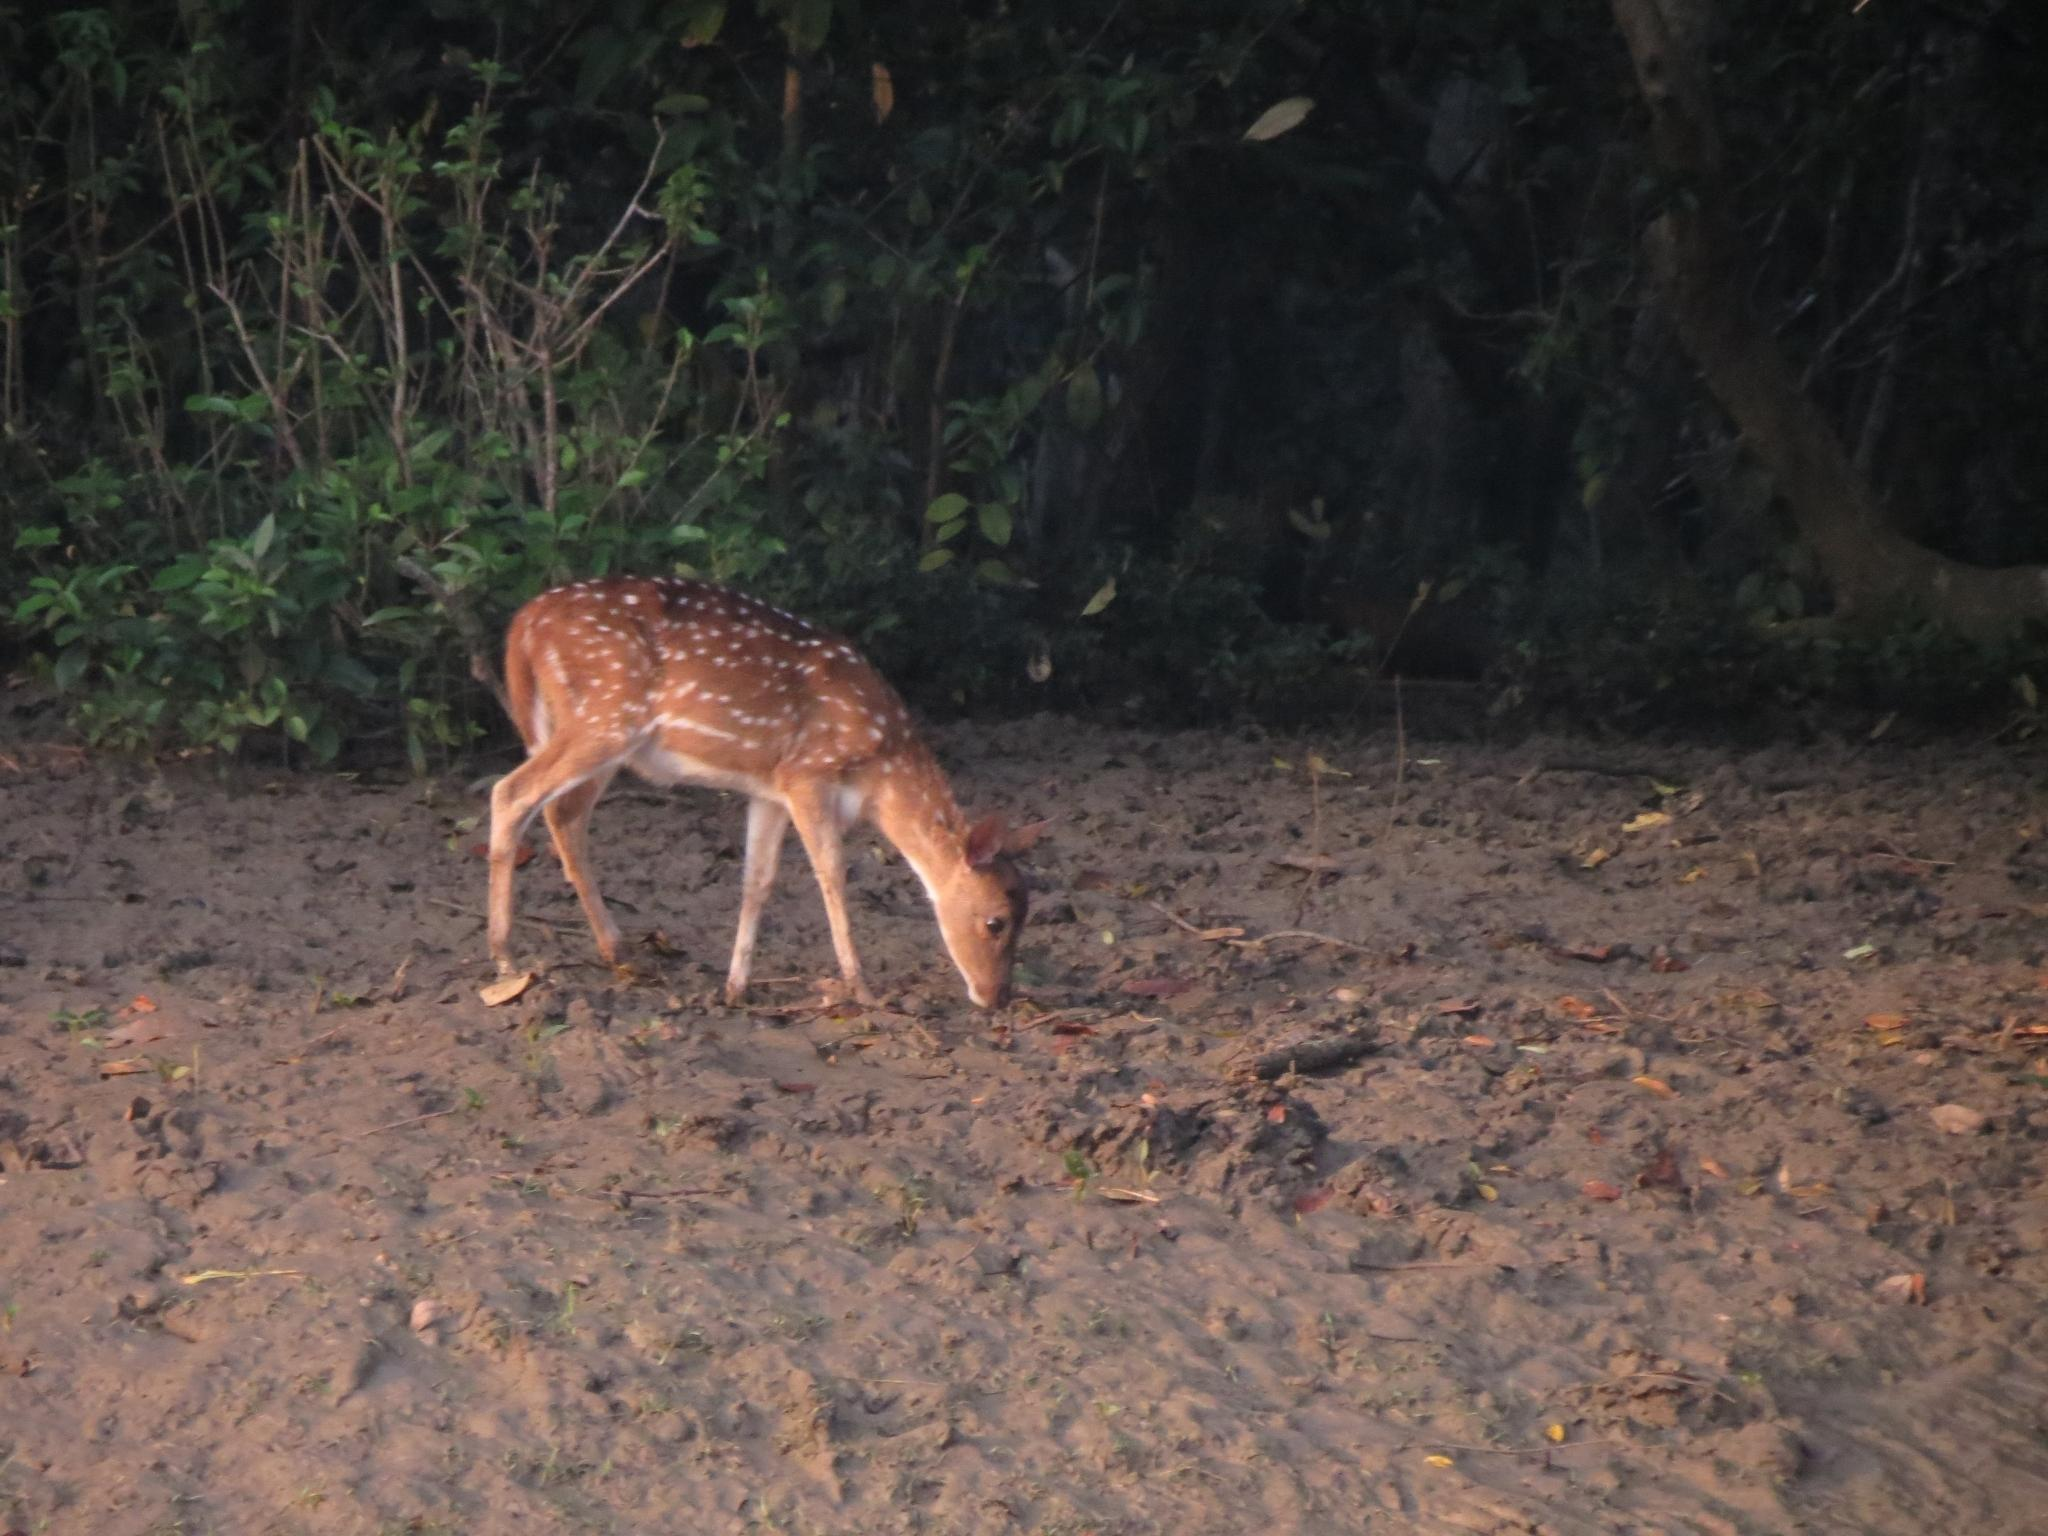Deer: (485, 578, 1047, 1008)
